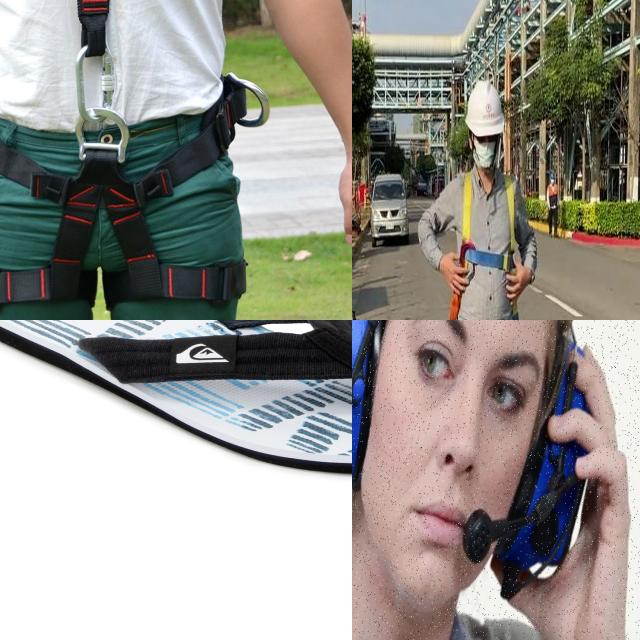Harness: (0, 0, 241, 320), (459, 172, 517, 272)
No_Glasses: (401, 320, 546, 441)
Sandals: (0, 320, 352, 479)
face_nomask: (362, 370, 533, 615)
hand_noglove: (513, 349, 630, 640)
